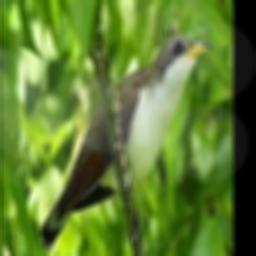Cuckoo: (12, 34, 212, 256)
